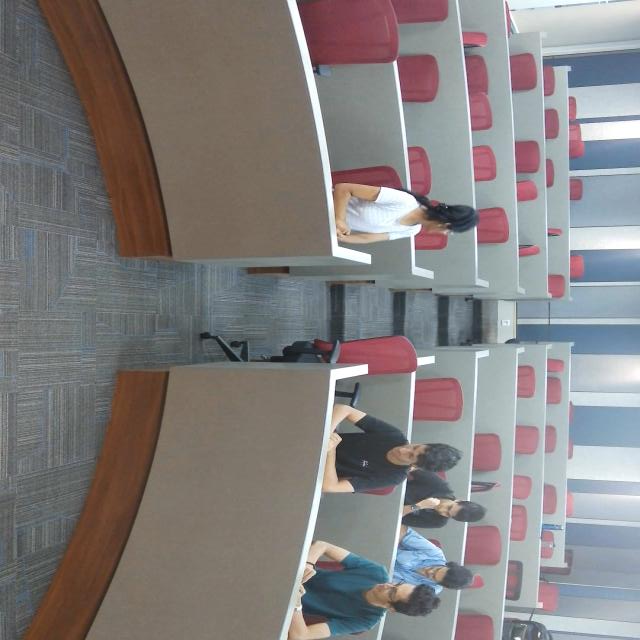cheating: (174, 151, 255, 297), (553, 192, 618, 340)
non-cheating: (428, 185, 493, 339), (488, 153, 529, 234), (549, 166, 592, 238)
